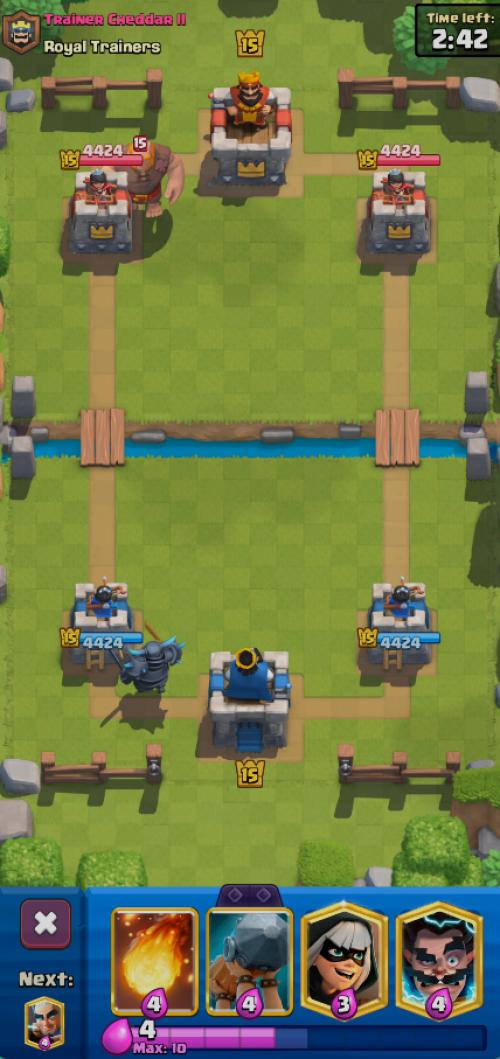Enemy-Giant: (125, 139, 183, 218)
Enemy-KingTower: (210, 85, 291, 188)
Enemy-PrincessTower: (367, 168, 429, 254), (69, 167, 131, 252)
